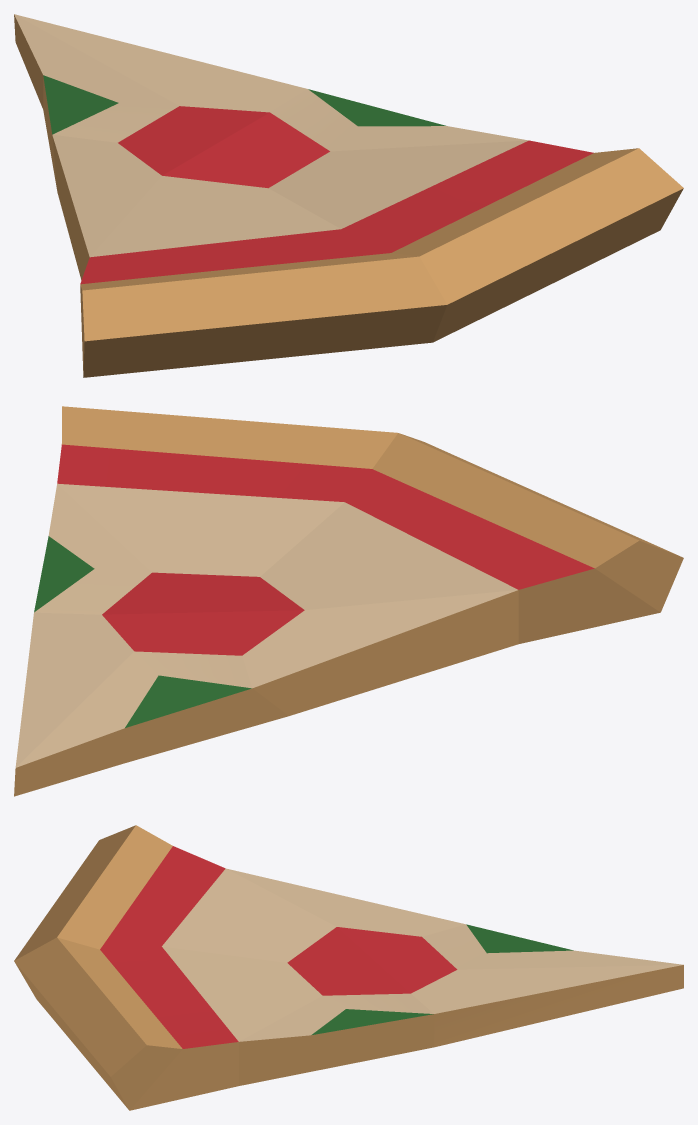
Rendered from food_pizza-cheese-slice.fbx.
The picture shows the model from 3 angles, top to bottom: view 1: azimuth 30°, elevation 25°; view 2: azimuth 150°, elevation 25°; view 3: azimuth 270°, elevation 25°; orthographic projection. The views are drawn at different scales.
Parts seen in each view (by area): view 1: food_pizza_cheese_slice; view 2: food_pizza_cheese_slice; view 3: food_pizza_cheese_slice.
Part boxes in pixels (x1=…): food_pizza_cheese_slice: x1=14, y1=14, x2=683, y2=377; food_pizza_cheese_slice: x1=14, y1=406, x2=683, y2=796; food_pizza_cheese_slice: x1=14, y1=825, x2=683, y2=1110.
Size of the model in its own units: 167 by 20.25 by 200.
